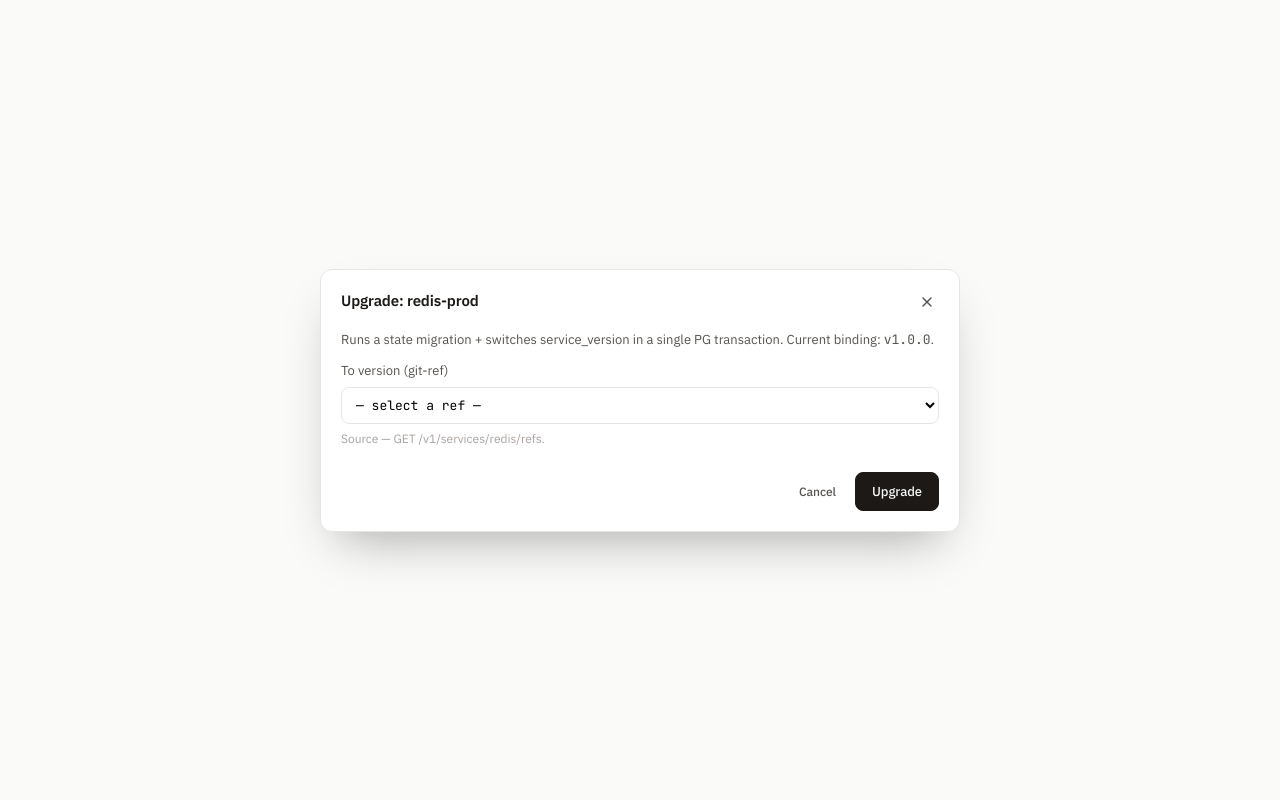
UpgradeModal — «Track run» (NIM-34) › success with run_apply_id → BOTH buttons shown (Track + Close)
Select "v2.0.0" in the dropdown at (640, 405), box [341,386,939,424]
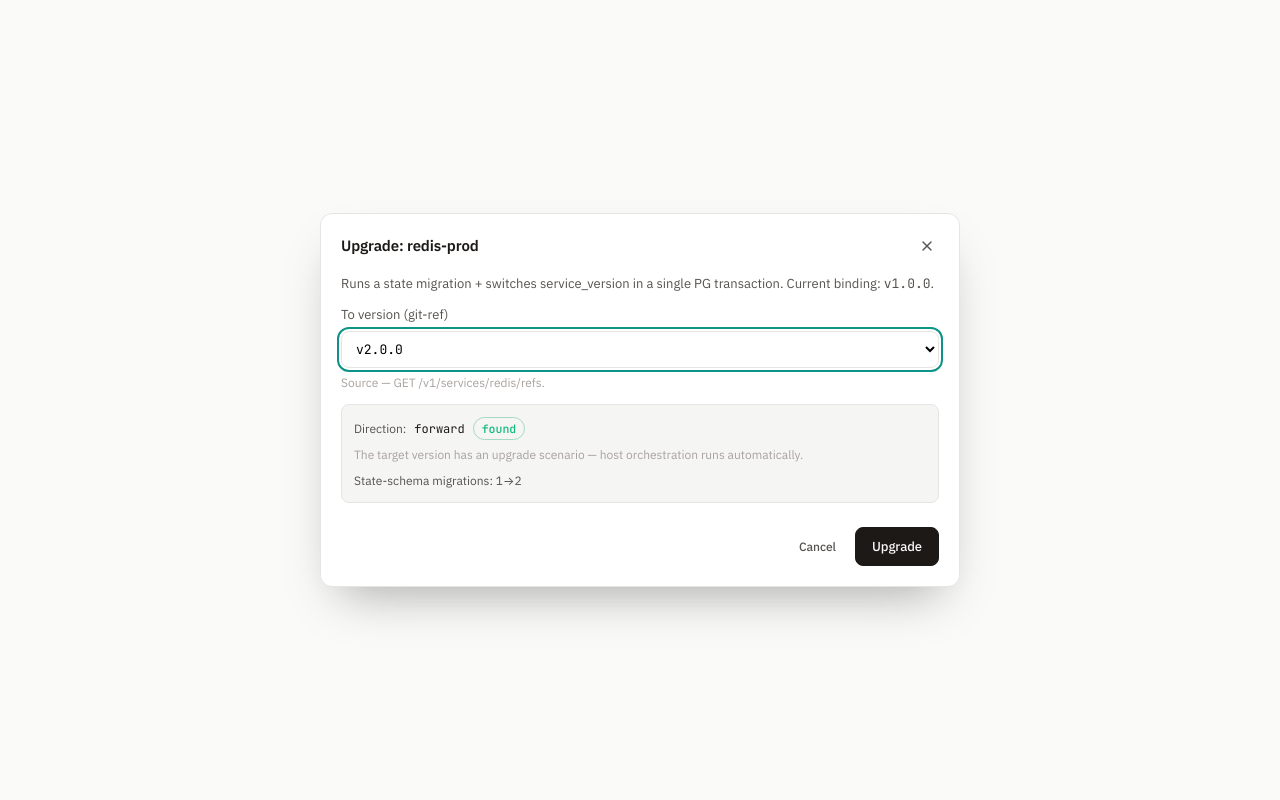
Click the button with test id "upgrade-submit" at (897, 547), box [855,527,939,566]
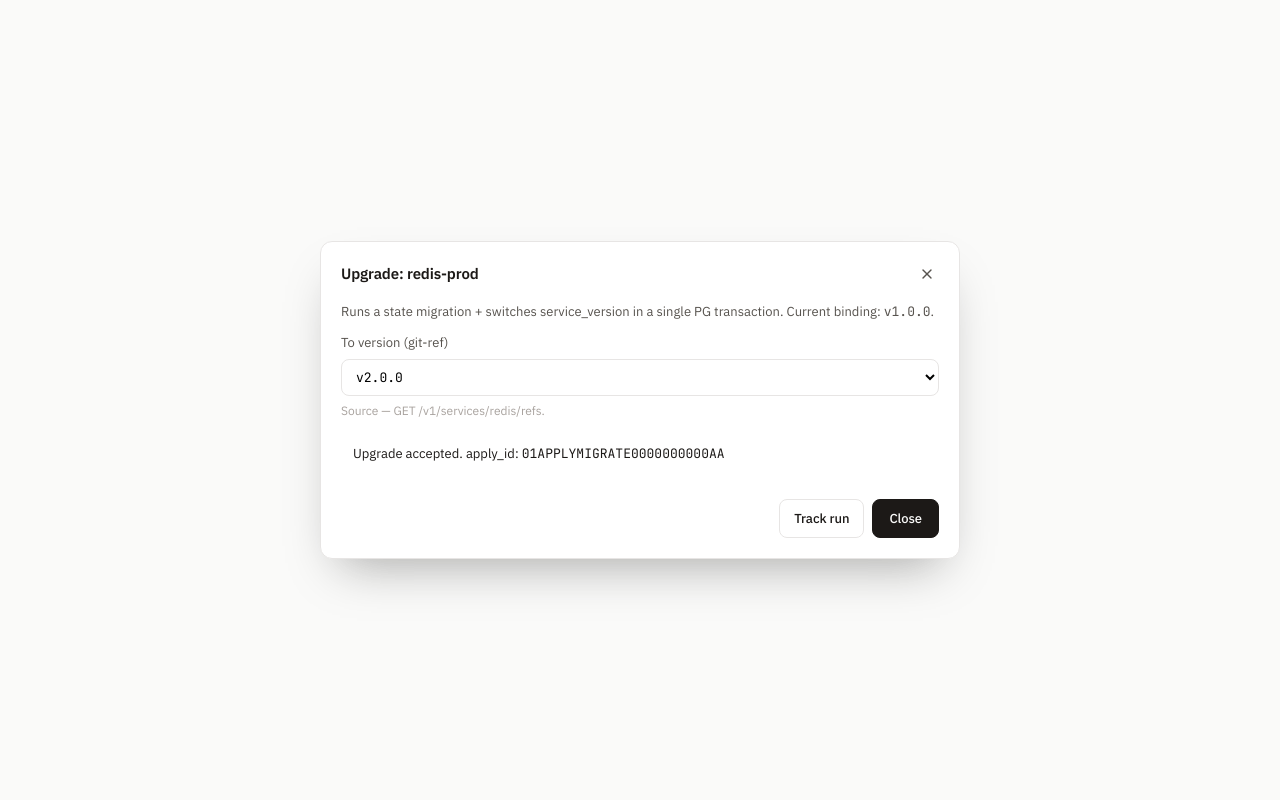
Expected: the button with test id "upgrade-close" is shown, [872,499,939,538]
Expected: the button with test id "upgrade-track-run" is shown, [779,499,864,538]
